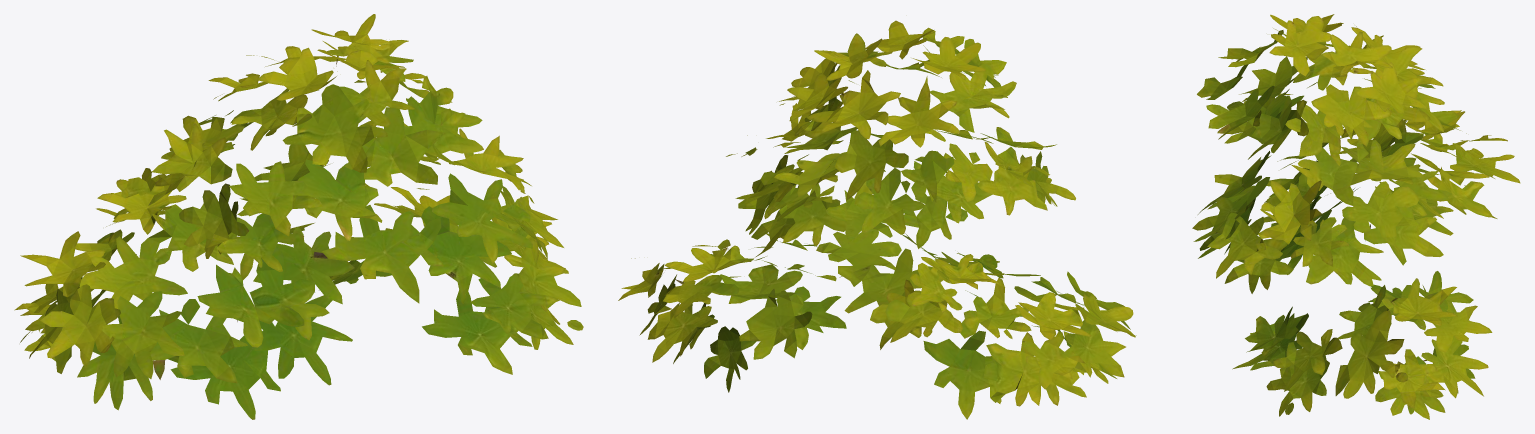
The model's file is leaf_au.glb.
3 renders of one model, left to right at view 1: azimuth 30°, elevation 25°; view 2: azimuth 150°, elevation 25°; view 3: azimuth 270°, elevation 25°, orthographic. The views are drawn at different scales.
Parts seen in each view (by area): view 1: geometry_0; view 2: geometry_0; view 3: geometry_0.
Part boxes in pixels (x1,y1,x2,y2): geometry_0: [14, 14, 583, 419]; geometry_0: [618, 20, 1136, 419]; geometry_0: [1192, 14, 1520, 419].
Size of the model in its own units: 0.4008 by 0.2453 by 0.2455.
1 material, 1 textured.
